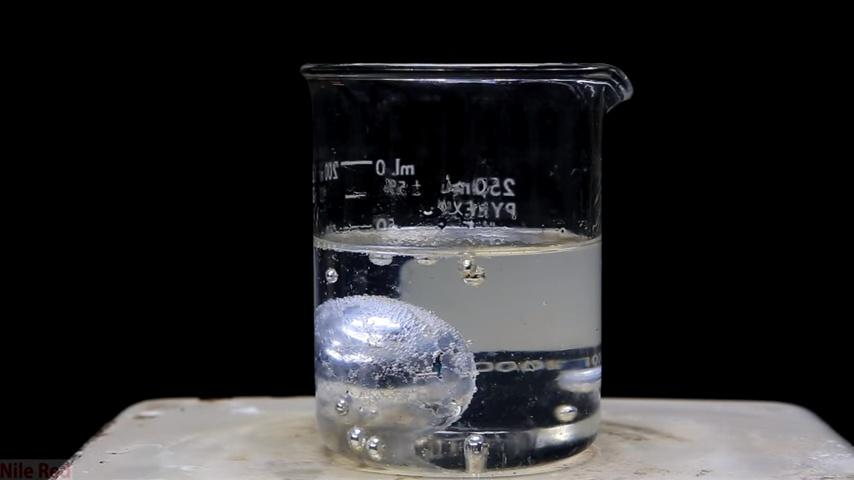Beaker: (287, 49, 638, 470)
